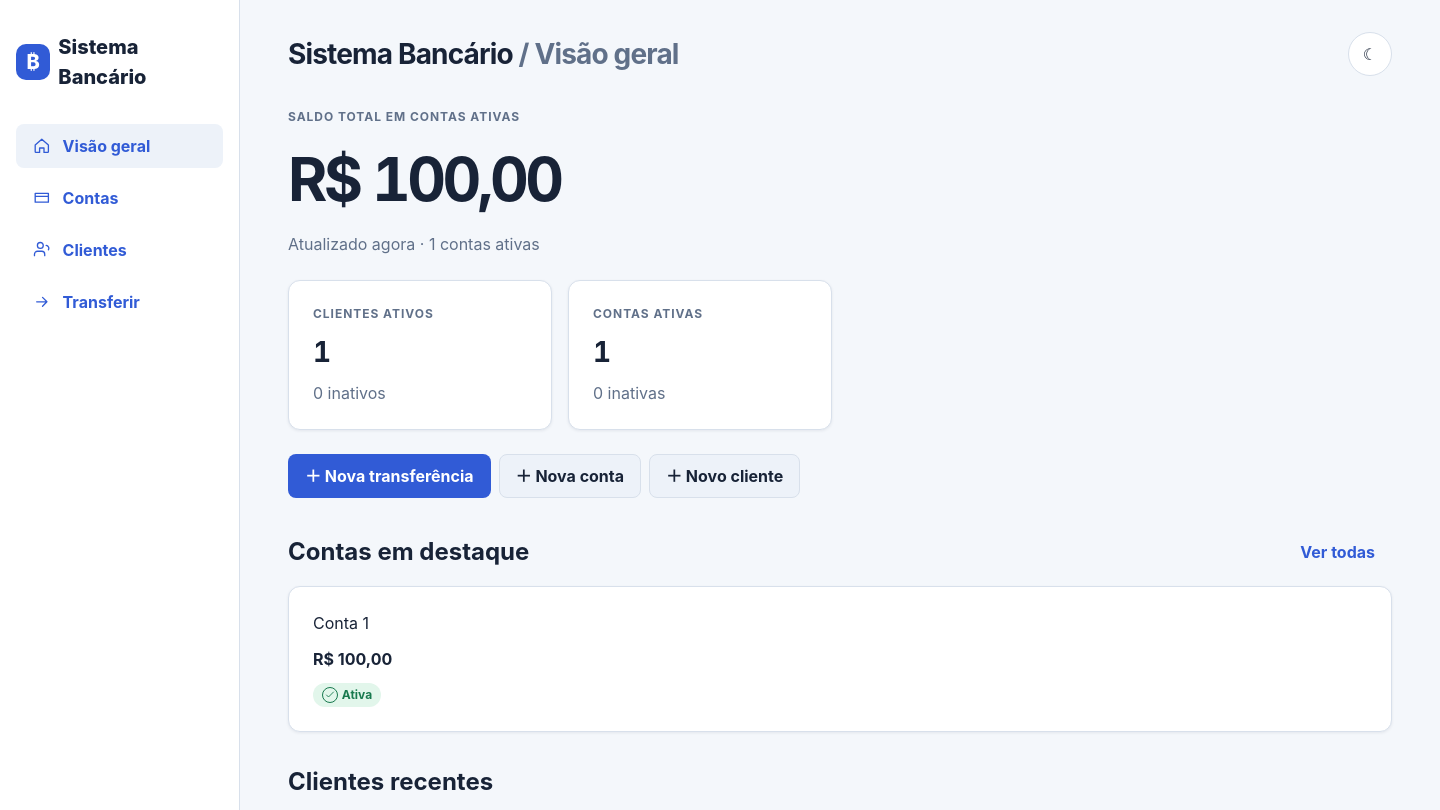
it: Sistema Bancário › navega entre clientes, contas e transferência
Click the button "Contas" at (120, 198), box [16,176,223,220]
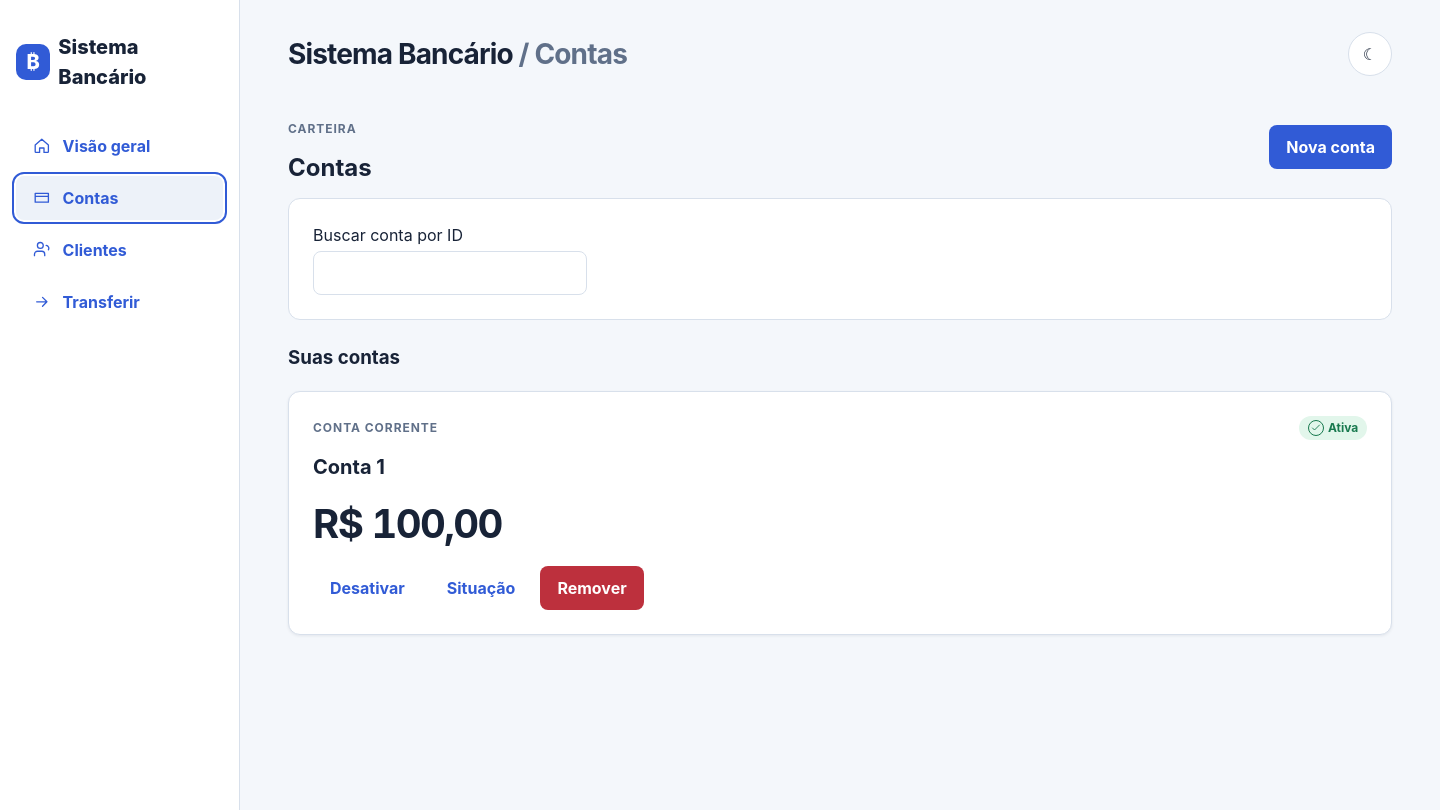
Expected: the heading "Contas" is shown, [288,150,372,186]
Click the button "Clientes" at (120, 250), box [16,228,223,272]
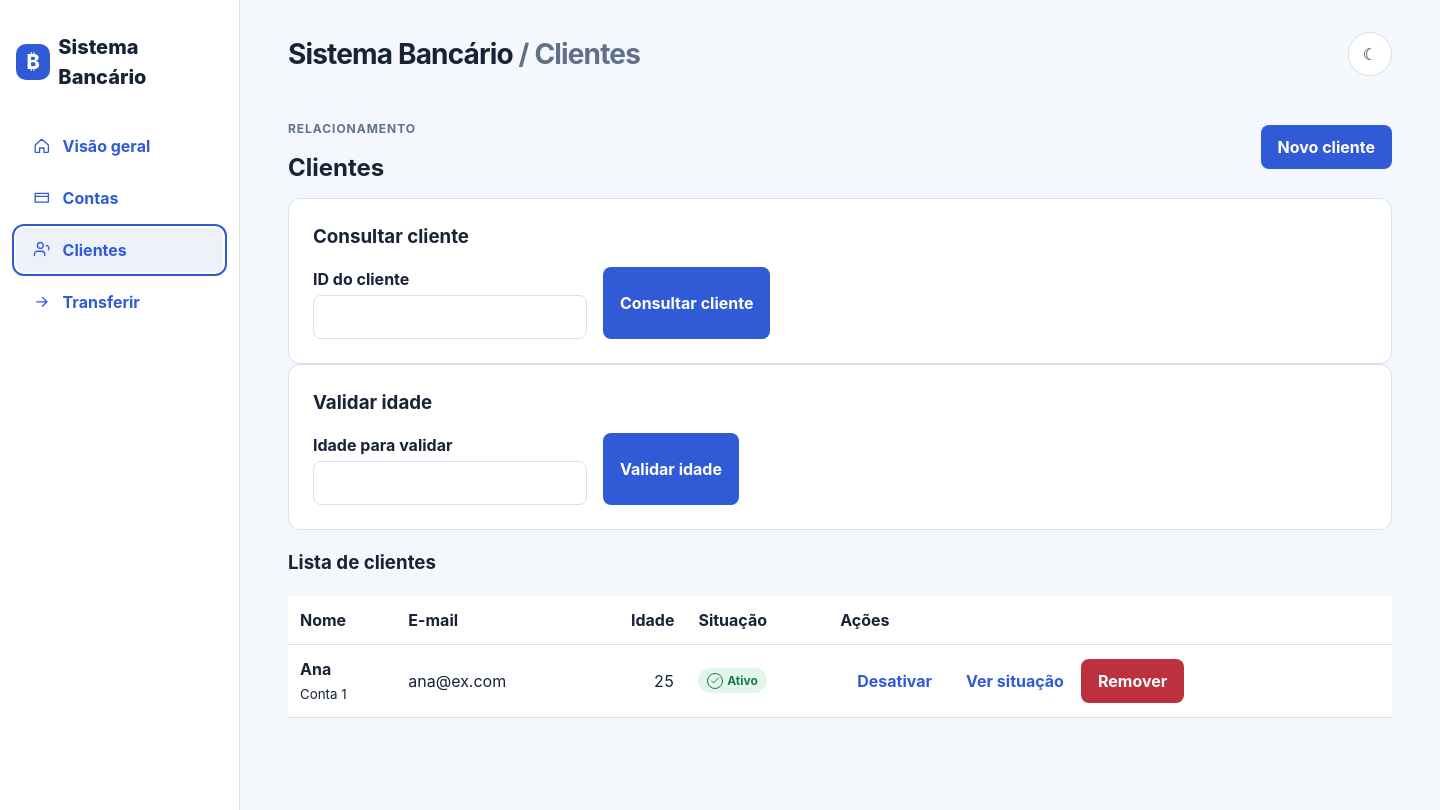
Expected: the heading "Clientes" is shown, [288,153,384,182]
